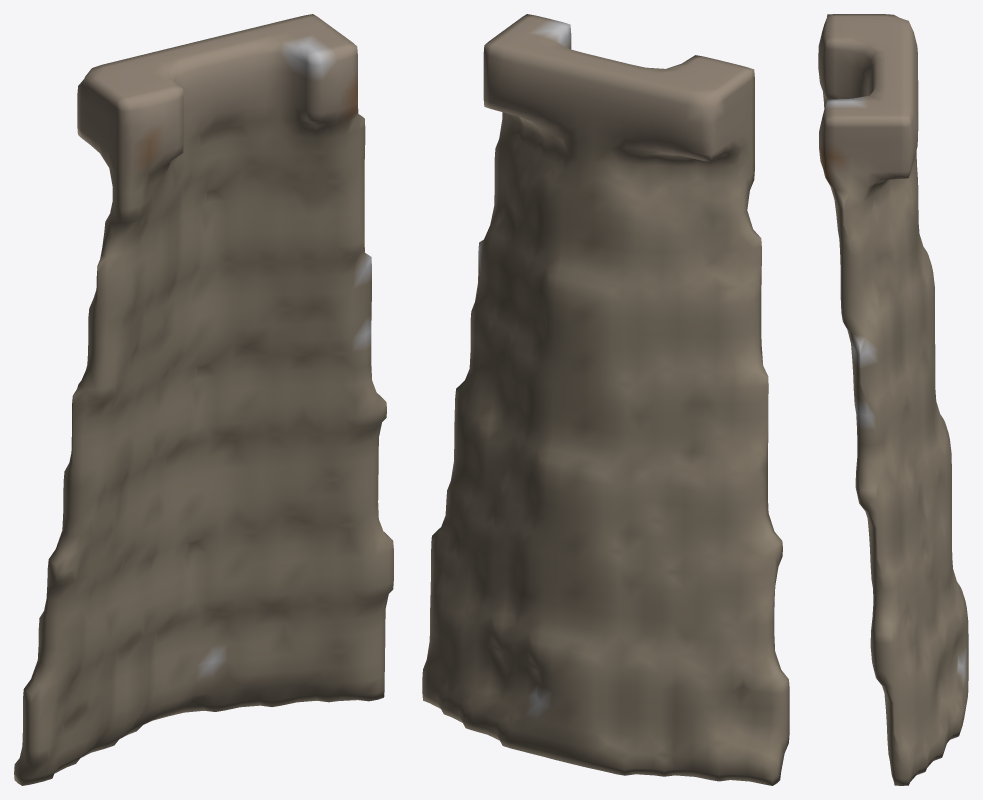
File: plate_common_cloak_lod1.glb
The picture shows the model from 3 angles, left to right: view 1: azimuth 30°, elevation 25°; view 2: azimuth 150°, elevation 25°; view 3: azimuth 270°, elevation 25°; orthographic projection. The views are drawn at different scales.
Visible parts, largest first — view 1: plate_common_cloak_lod1; view 2: plate_common_cloak_lod1; view 3: plate_common_cloak_lod1.
Part boxes in pixels (x1,y1,x2,y2): plate_common_cloak_lod1: (14, 14, 393, 785); plate_common_cloak_lod1: (422, 14, 789, 785); plate_common_cloak_lod1: (818, 14, 968, 785).
Bounding box in the file's own units: 0.5518 × 1.01 × 0.2147.
